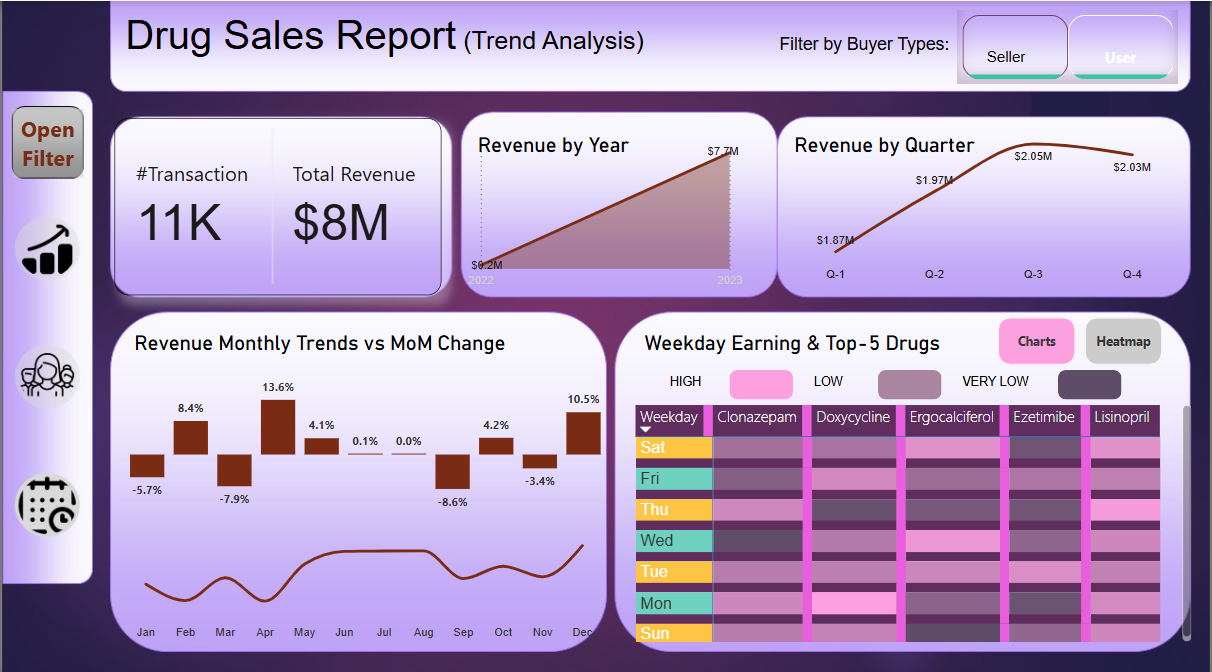

This screenshot's page, from the dashboard's own definition file:
{"tool":"powerbi","page":{"name":"Trend","canvas":[1280,720],"ordinal":3},"visuals":[{"type":"cardVisual","fields":{"Data":["Calculations.#Transaction","Calculations.Total Revenue"]},"box":[119.3,124.1,346.8,187.7],"z":0},{"type":"textbox","title":"heatmap","box":[676.5,345,367.5,35],"z":0,"group":"g2"},{"type":"textbox","box":[703.6,392.1,66.8,31.8],"z":0,"group":"g1"},{"type":"actionButton","title":"Open","box":[10.7,114.3,75,72.6],"z":1000,"group":"g4"},{"type":"lineChart","fields":{"Y":["Calculations.Total Revenue"],"Category":["Calendar.Year"]},"box":[488.3,141.6,302.2,170.2],"z":1000},{"type":"textbox","box":[1013.1,392.1,90,31],"z":1000,"group":"g1"},{"type":"pivotTable","fields":{"Rows":["Calendar.Weekday"],"Values":["Calculations.Total Revenue"],"Columns":["DrugLookup.DrugName"]},"box":[667.1,423.9,599.6,261.1],"z":1000,"group":"g3"},{"type":"textbox","title":"Weekday Revenue","box":[135.2,345.2,426.3,35],"z":2000},{"type":"textbox","box":[856.8,392.1,55,31],"z":2000,"group":"g1"},{"type":"shape","box":[772.4,391.9,67.5,31.2],"z":3000,"group":"g1"},{"type":"lineChart","fields":{"Category":["Calendar.Month"],"Y":["Calculations.Total Revenue"]},"box":[130.4,545.6,509,140],"z":3000},{"type":"lineChart","fields":{"Y":["Calculations.Total Revenue"],"Category":["Calendar.Qtr"]},"box":[836.2,135,408.8,170],"z":4000},{"type":"shape","box":[928.7,391.9,67.5,31.2],"z":4000,"group":"g1"},{"type":"clusteredColumnChart","fields":{"Category":["Calendar.Month"],"Y":["Calculations.MoM Change"]},"box":[130,386.2,510,158.8],"z":5000},{"type":"shape","box":[1120,391.9,67.5,31.2],"z":5000,"group":"g1"},{"type":"group","id":"g1","title":"Legend","box":[703.6,391.9,483.9,32],"z":6000},{"type":"group","id":"g2","title":"Title","box":[676.5,345,367.5,35],"z":7000},{"type":"bookmarkNavigator","box":[1056.2,335,175,50],"z":8000},{"type":"group","id":"g3","title":"Charts","box":[660,421.7,606.7,263.3],"z":9000},{"type":"textbox","title":"Weekday Revenue","box":[499.5,135.2,203.6,35],"z":10000},{"type":"textbox","title":"Weekday Revenue","box":[835.7,134.5,220.2,35.7],"z":11000},{"type":"textbox","box":[125.7,6.4,644.2,82.7],"z":12000},{"type":"advancedSlicerVisual","fields":{"Values":["FactTable.BuyerType"]},"box":[1013.1,9.5,233.3,78.6],"z":13000},{"type":"group","id":"g4","title":"OpenCloseBtn","box":[10.7,114.3,75,72.6],"z":14000},{"type":"textbox","box":[819.2,30.2,210,42.9],"z":16000},{"type":"actionButton","box":[9.5,363.1,78.6,72.6],"z":17000},{"type":"actionButton","box":[8.3,226.2,78.6,72.6],"z":18000}]}

Visuals, with their boxes in screenshot pixels (x1, y1, x2, y2), scaled from the page's 1280x720 canvas onto the 1212x672 screenshot:
cardVisual - Calculations.#Transaction x Calculations.Total Revenue: bbox=(113, 116, 441, 291)
"heatmap" textbox: bbox=(641, 322, 989, 355)
textbox: bbox=(666, 366, 729, 396)
"Open" actionButton: bbox=(10, 107, 81, 174)
lineChart - Calculations.Total Revenue x Calendar.Year: bbox=(462, 132, 749, 291)
textbox: bbox=(959, 366, 1044, 395)
pivotTable - Calendar.Weekday x Calculations.Total Revenue: bbox=(632, 396, 1199, 639)
"Weekday Revenue" textbox: bbox=(128, 322, 532, 355)
textbox: bbox=(811, 366, 863, 395)
shape: bbox=(731, 366, 795, 395)
lineChart - Calendar.Month x Calculations.Total Revenue: bbox=(123, 509, 605, 640)
lineChart - Calculations.Total Revenue x Calendar.Qtr: bbox=(792, 126, 1179, 285)
shape: bbox=(879, 366, 943, 395)
clusteredColumnChart - Calendar.Month x Calculations.MoM Change: bbox=(123, 360, 606, 509)
shape: bbox=(1060, 366, 1124, 395)
"Legend" group: bbox=(666, 366, 1124, 396)
"Title" group: bbox=(641, 322, 989, 355)
bookmarkNavigator: bbox=(1000, 313, 1166, 359)
"Charts" group: bbox=(625, 394, 1199, 639)
"Weekday Revenue" textbox: bbox=(473, 126, 666, 159)
"Weekday Revenue" textbox: bbox=(791, 126, 1000, 159)
textbox: bbox=(119, 6, 729, 83)
advancedSlicerVisual - FactTable.BuyerType: bbox=(959, 9, 1180, 82)
"OpenCloseBtn" group: bbox=(10, 107, 81, 174)
textbox: bbox=(776, 28, 975, 68)
actionButton: bbox=(9, 339, 83, 407)
actionButton: bbox=(8, 211, 82, 279)
